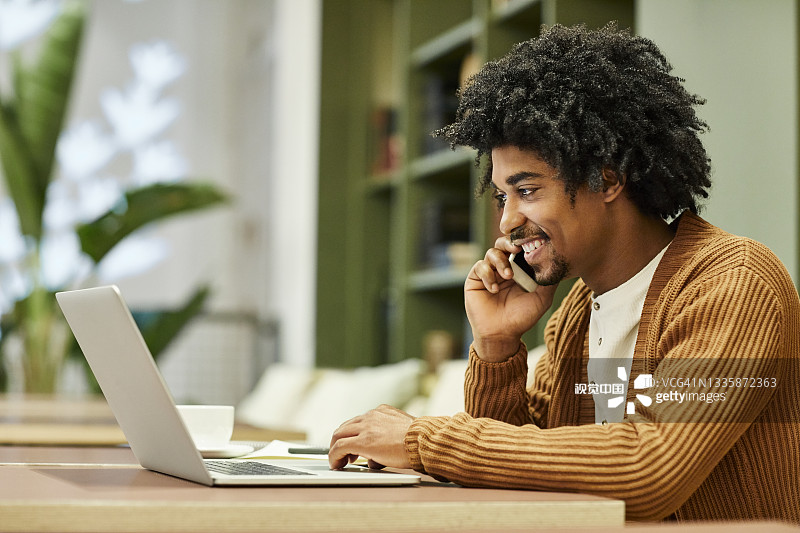calling: (440, 208, 567, 360)
no-phone: (311, 388, 455, 489)
